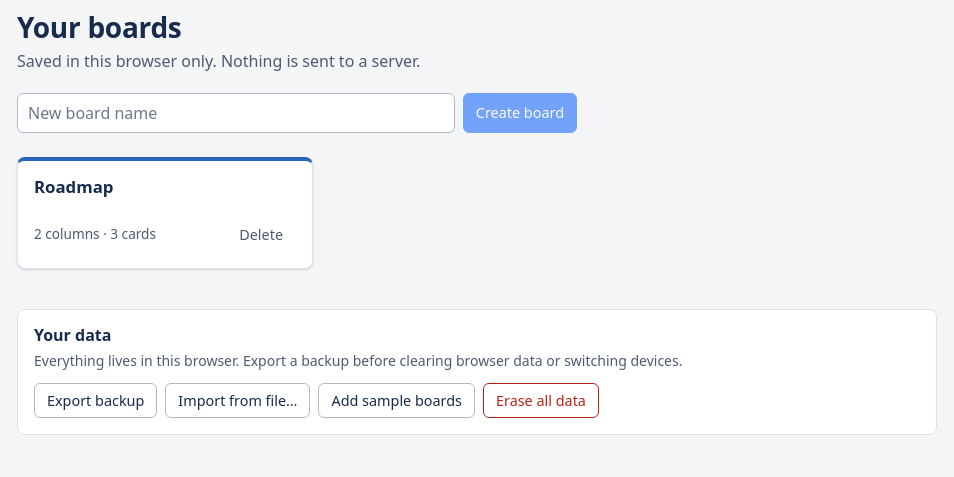
BoardsPage › deletes a board after confirmation
Click the button with aria-label "Delete board Roadmap": (261, 235) 226,217 -> 296,252
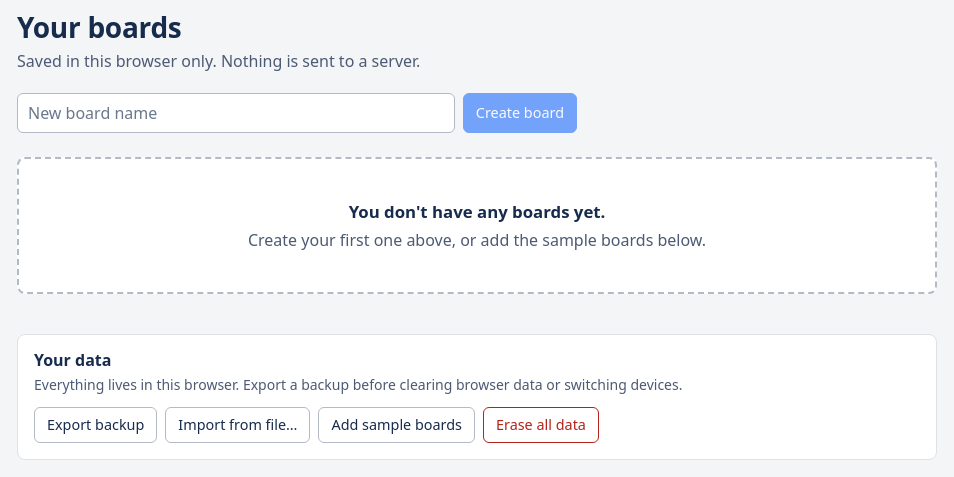
Now the link "Roadmap" is gone
